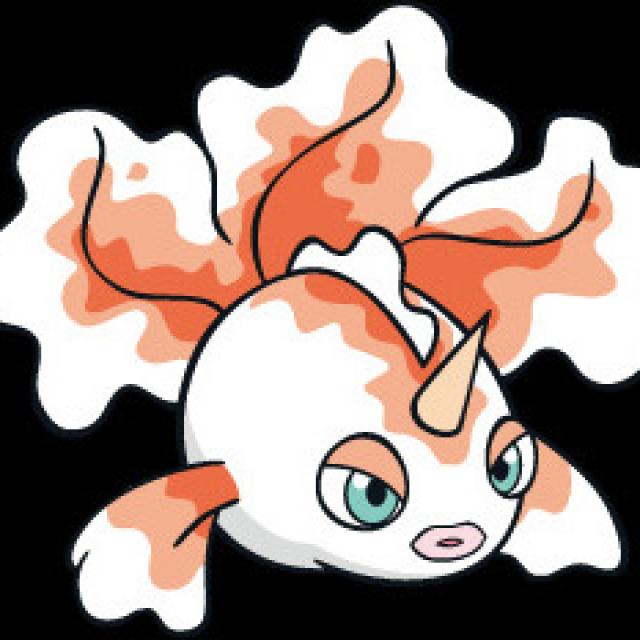Goldeen: (58, 194, 624, 587)
